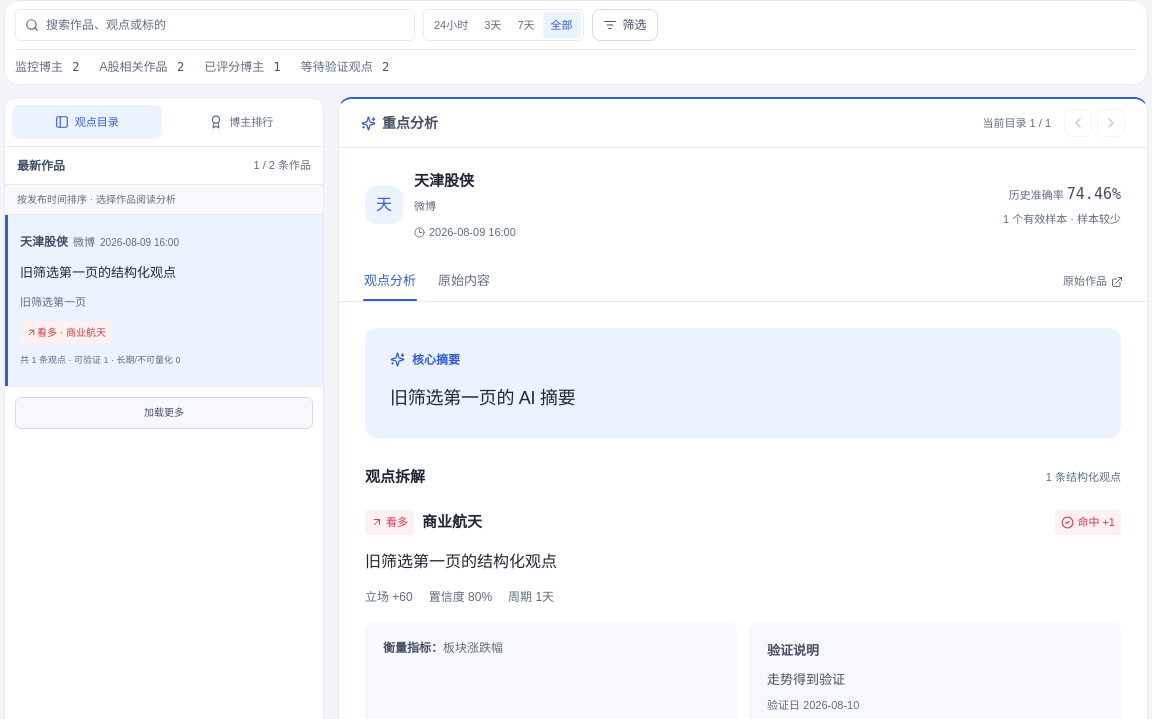
Test: CreatorInsightsView › ignores a stale load-more response after server filters change
The image size is (1152, 719).
Click the button "加载更多" at coordinates (164, 413), box [15,397,313,429]
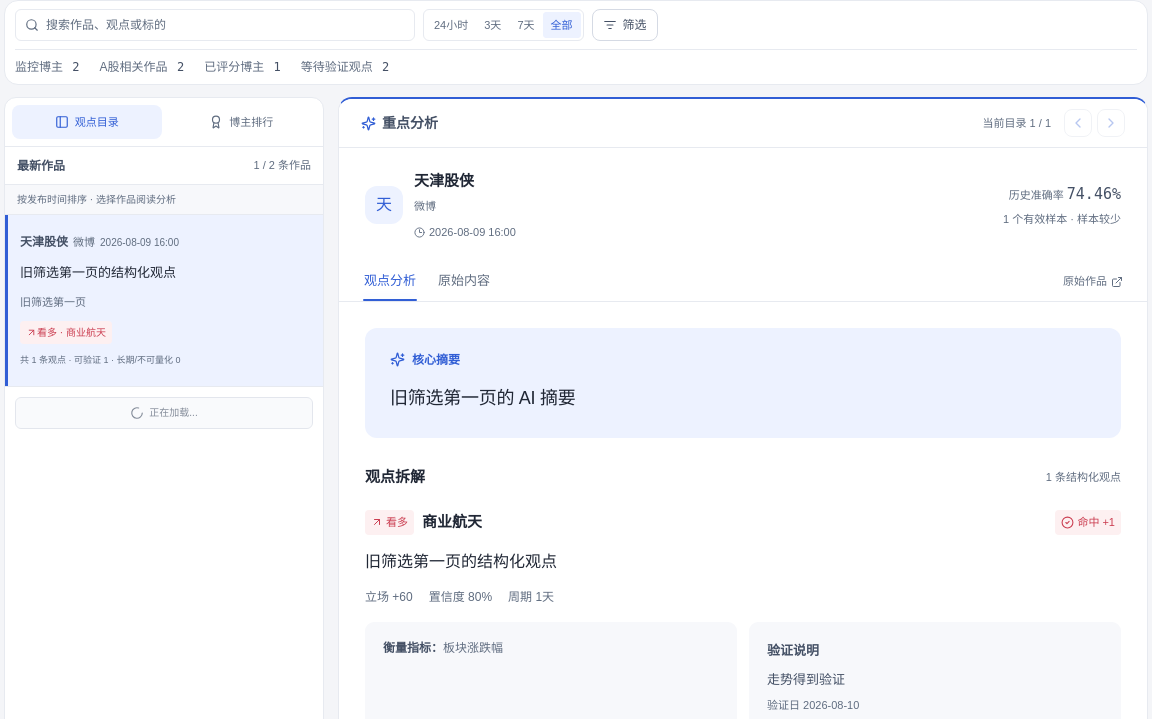
Click the button "博主排行" at coordinates (241, 122), box [166,105,316,139]
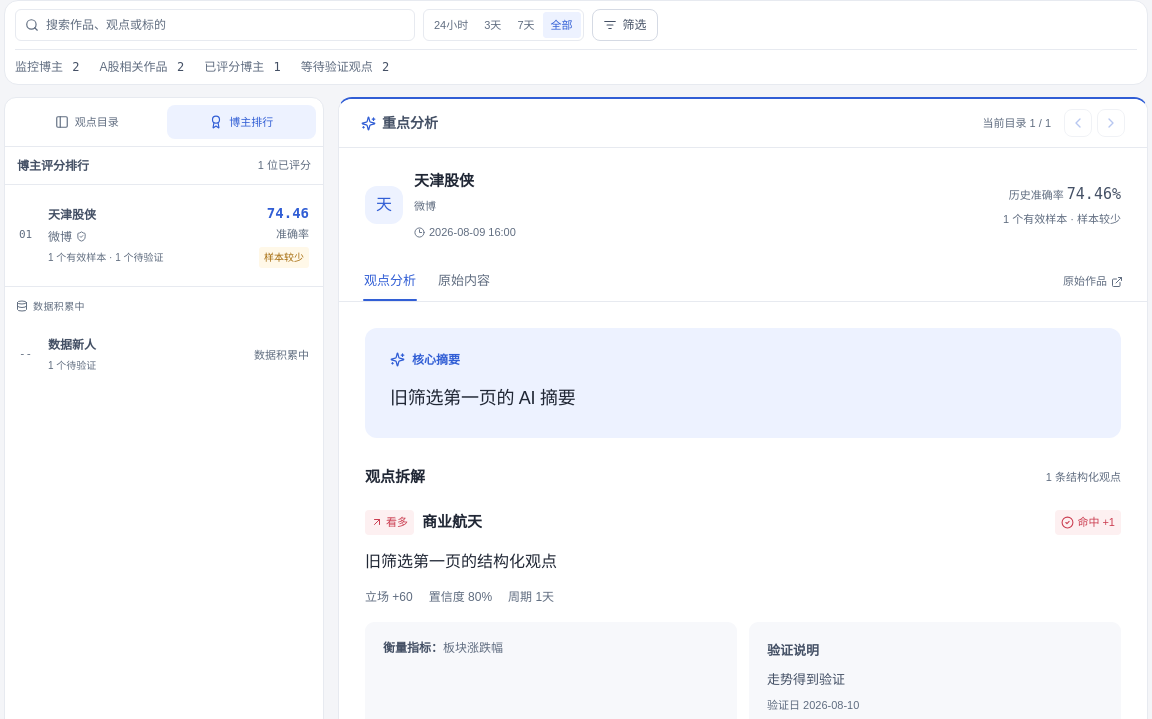
Click the button "-- 数据新人 1 个待验证 数据积累中" at coordinates (72, 345), box [10,320,318,388]
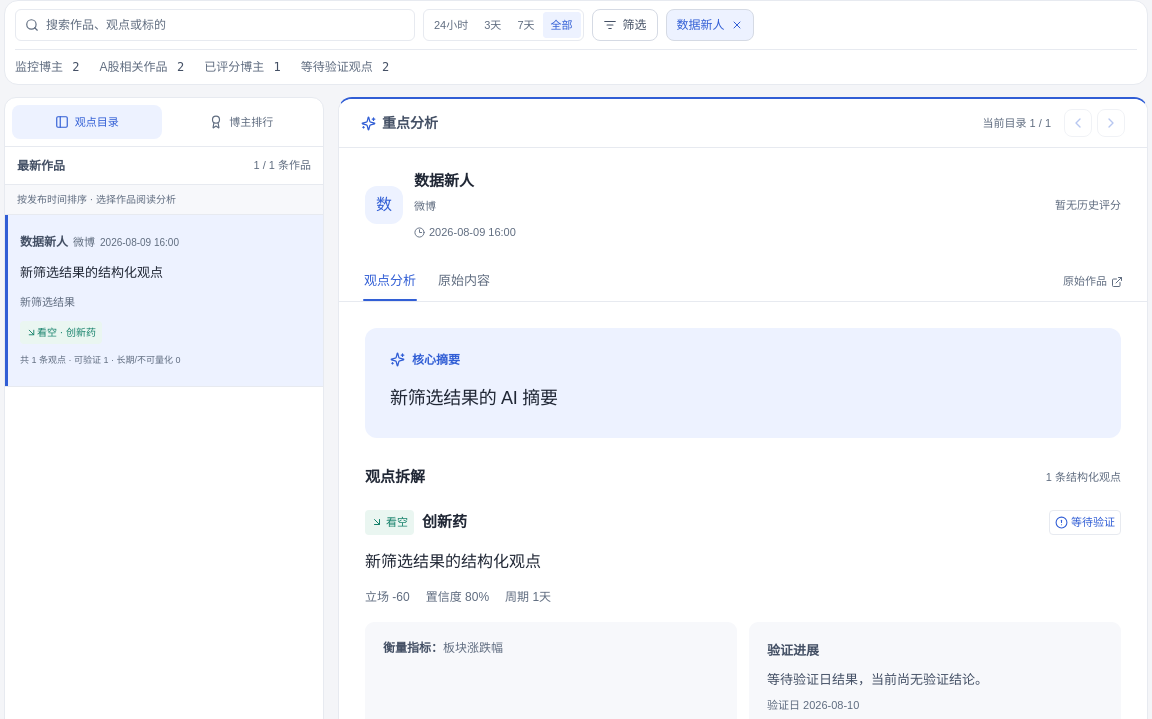
Check: the text "新筛选结果" is shown, box [20,265,163,280]
